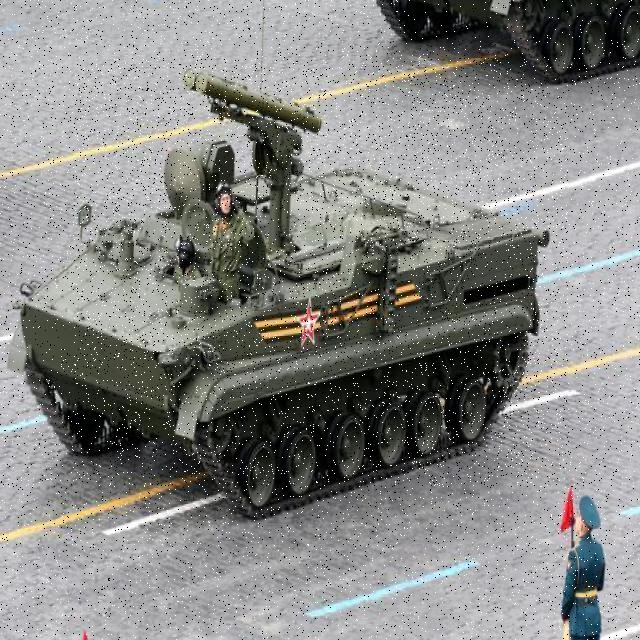MIL_MBT: (73, 59, 568, 487)
